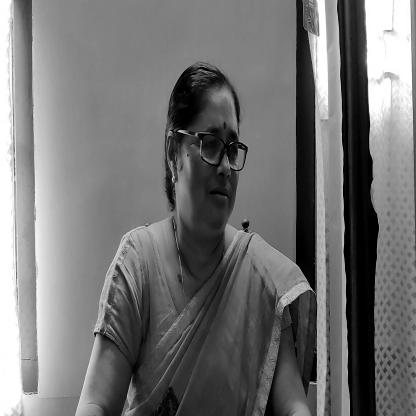Distracted: (168, 64, 246, 246)
